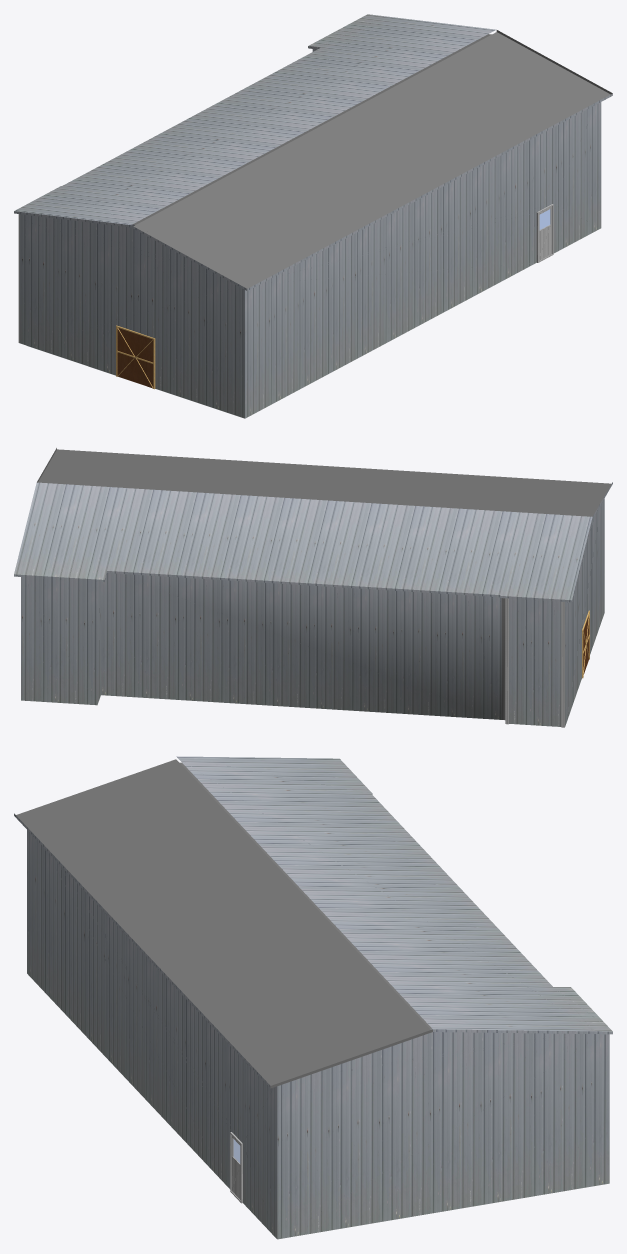
3 views of the same model, one above another, from view 1: azimuth 30°, elevation 25°; view 2: azimuth 150°, elevation 25°; view 3: azimuth 270°, elevation 25° (orthographic). The views are drawn at different scales.
Visible parts, largest first — view 1: K棟(修), 元件#12; view 2: K棟(修), 元件#12; view 3: K棟(修).
Boxes of the visible parts, left/top/right/bottom form: K棟(修): left=14, top=14, right=612, bottom=418; 元件#12: left=116, top=325, right=155, bottom=389; K棟(修): left=14, top=448, right=612, bottom=727; 元件#12: left=582, top=610, right=589, bottom=678; K棟(修): left=14, top=756, right=612, bottom=1239.
Bounding box in the file's own units: 25.99 × 6.96 × 20.09.
7 materials, 5 textured.
